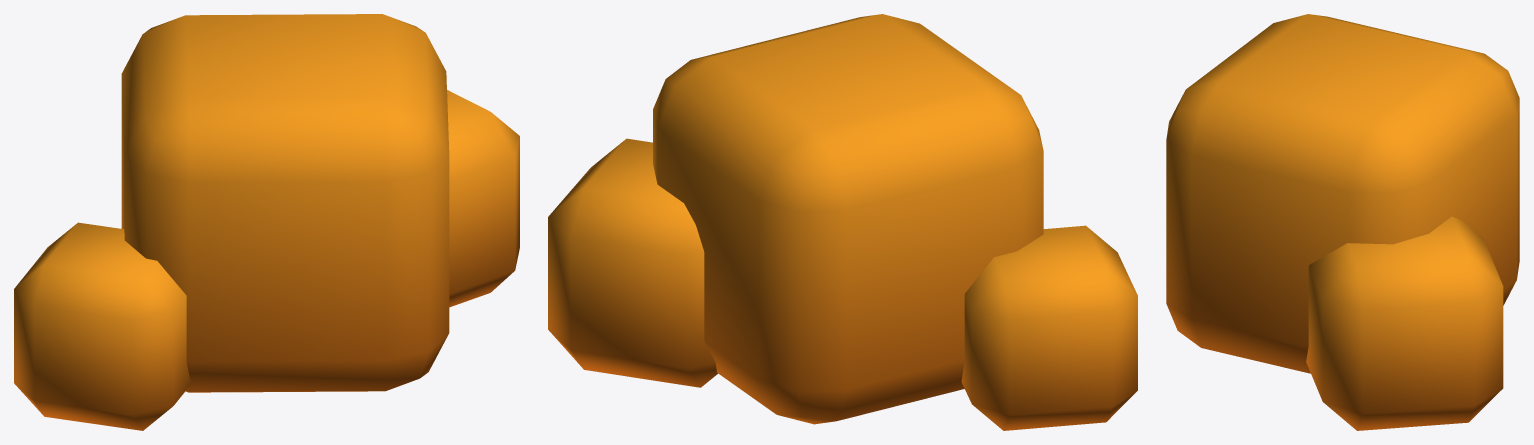
The model's file is Bush_2_D_Color6.fbx.
3 views of the same model, side by side, from view 1: azimuth 30°, elevation 25°; view 2: azimuth 150°, elevation 25°; view 3: azimuth 270°, elevation 25° (orthographic). The views are drawn at different scales.
Parts seen in each view (by area): view 1: Bush_2_D_Color6; view 2: Bush_2_D_Color6; view 3: Bush_2_D_Color6.
Boxes of the visible parts, <box> form: Bush_2_D_Color6: <box>14,14,519,430</box>; Bush_2_D_Color6: <box>548,14,1137,430</box>; Bush_2_D_Color6: <box>1166,14,1519,430</box>.
Size of the model in its own units: 1.57 by 0.858 by 1.02.
